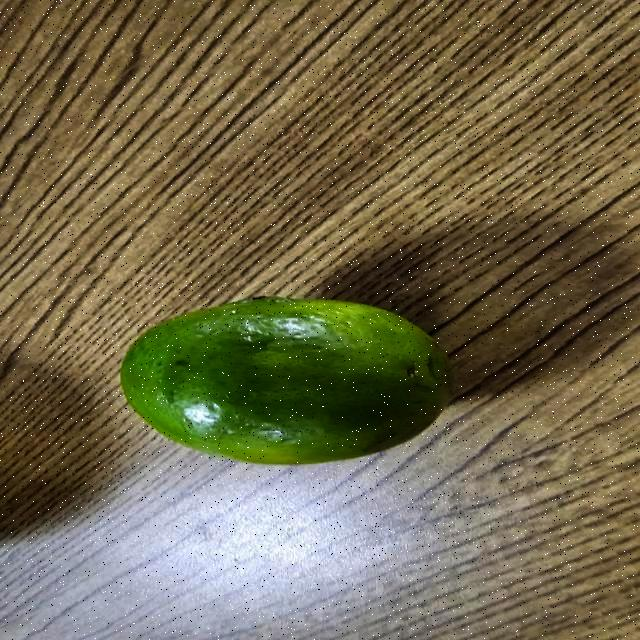Lemon: (116, 287, 472, 468)
